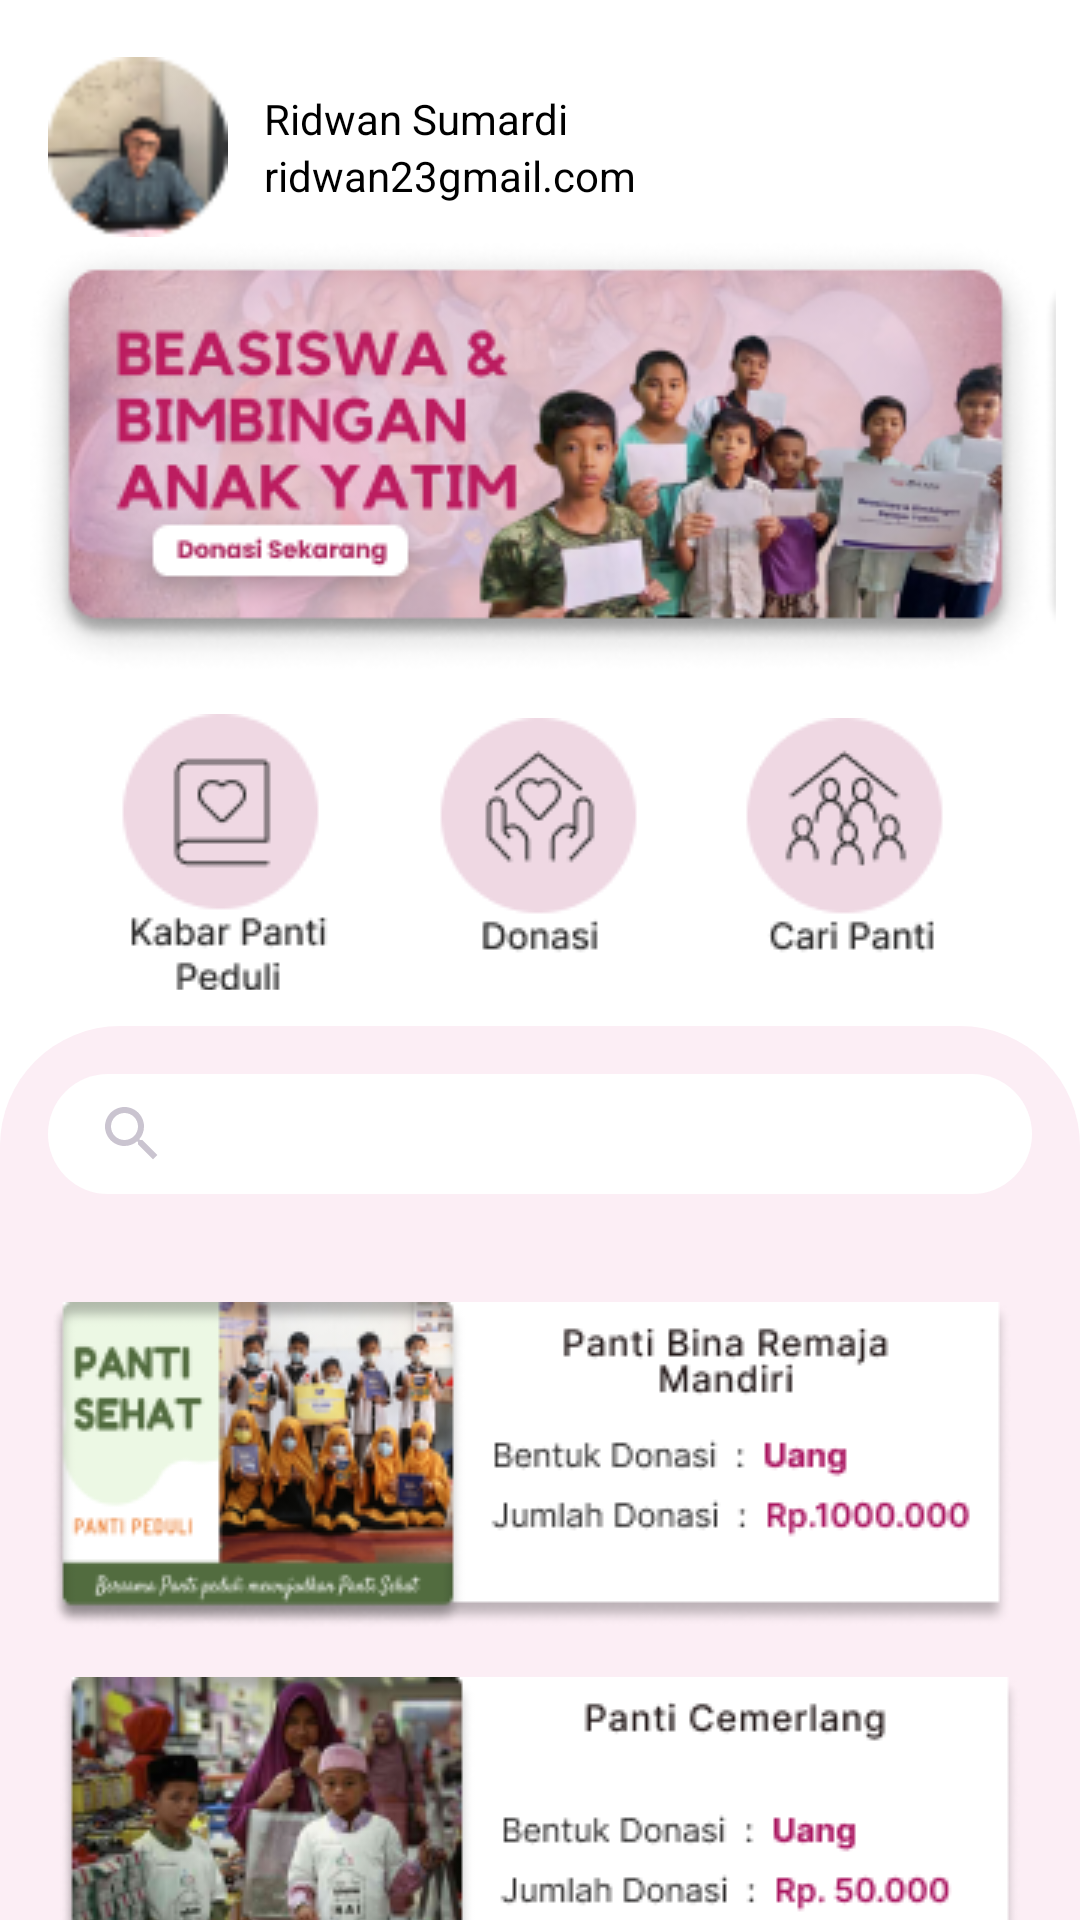

Icon click points for this 1080*1920 phone screenshot, format (x=x, y=y):
profidonasi: (x=138, y=147)
